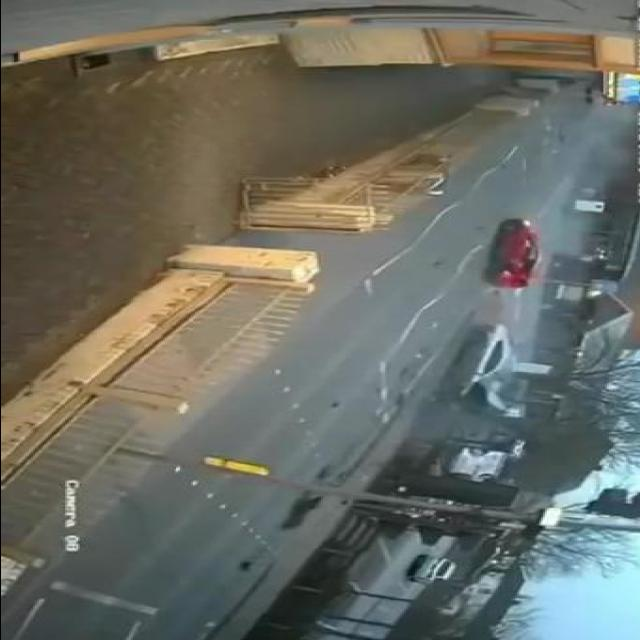accident: (423, 307, 529, 425), (475, 212, 561, 295)
